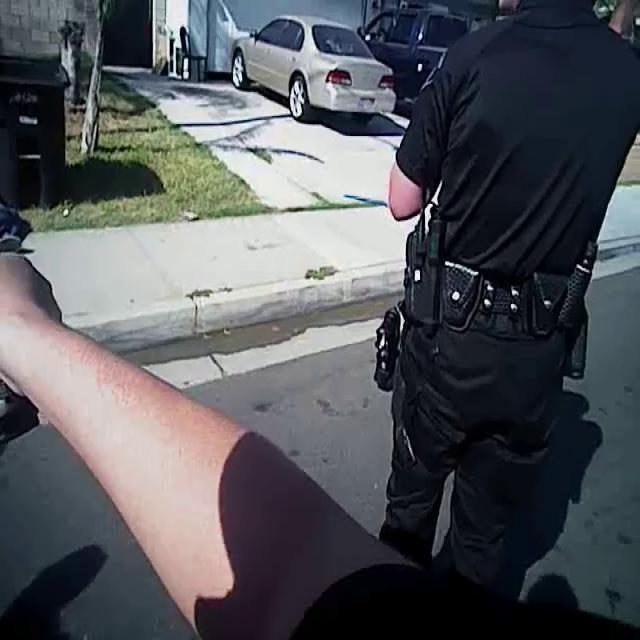gun: (0, 252, 46, 466)
